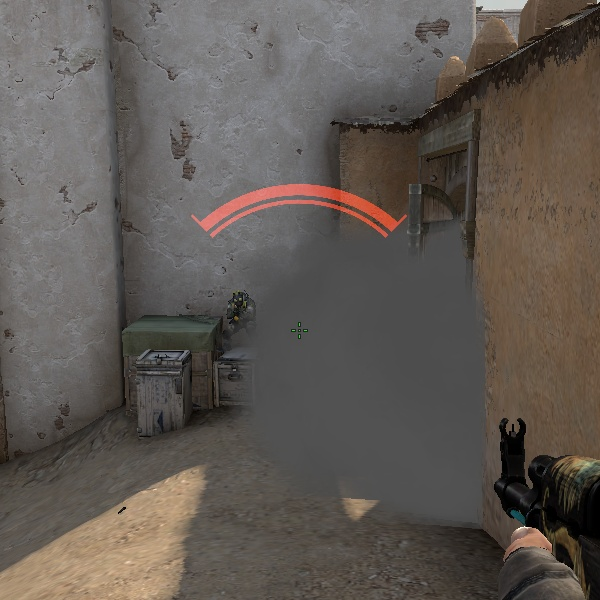ct_body: (223, 288, 252, 355)
